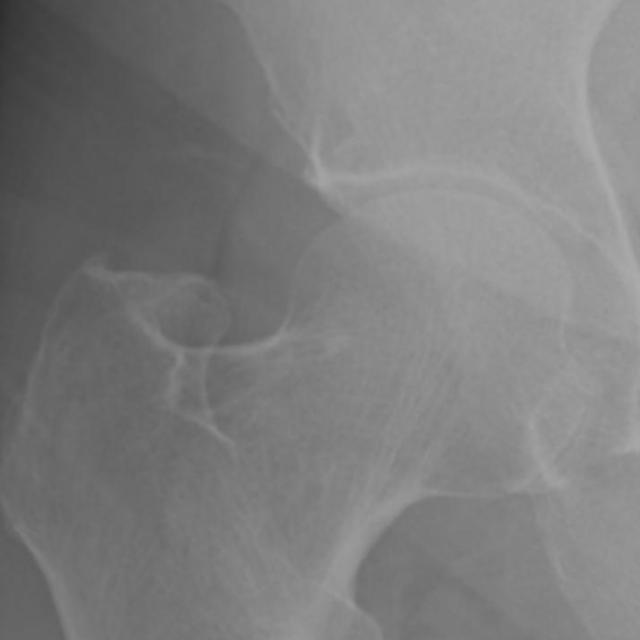Fitted_femural_head: (333, 187, 432, 333)
